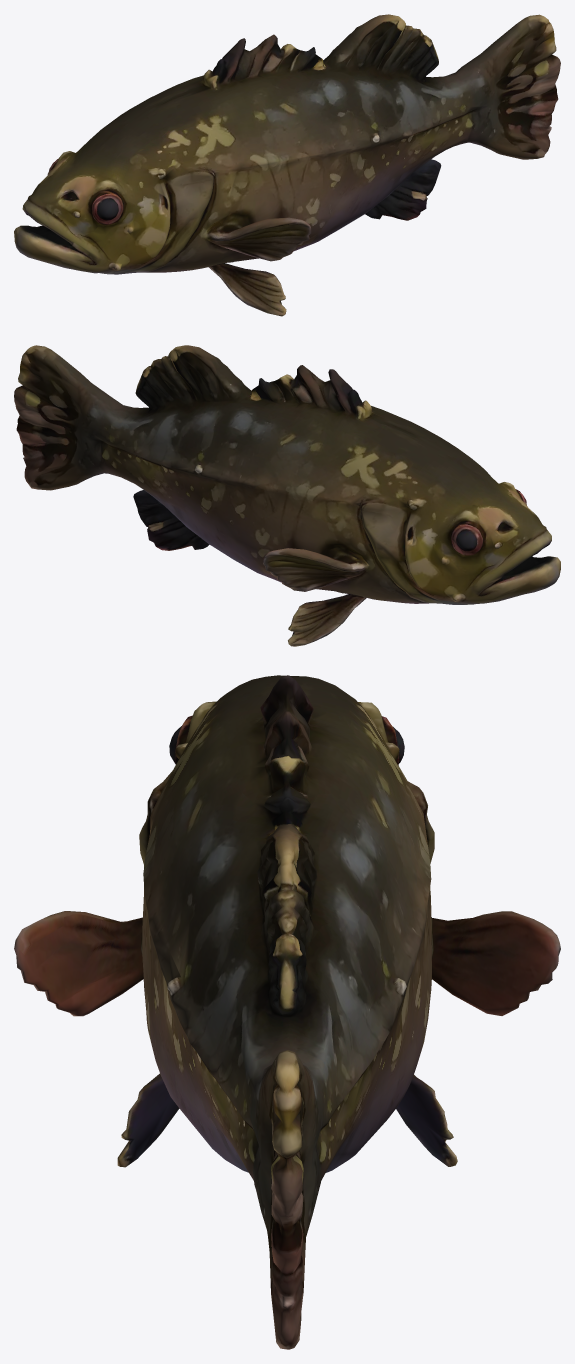
The model's file is fish-starik.glb.
The picture shows the model from 3 angles, top to bottom: view 1: azimuth 30°, elevation 25°; view 2: azimuth 150°, elevation 25°; view 3: azimuth 270°, elevation 25°; orthographic projection. The views are drawn at different scales.
Visible parts, largest first — view 1: tripo_node_d53db0b5-5b9f-47e2-a580-f28922fbe34b; view 2: tripo_node_d53db0b5-5b9f-47e2-a580-f28922fbe34b; view 3: tripo_node_d53db0b5-5b9f-47e2-a580-f28922fbe34b.
Boxes of the visible parts, x1,y1,x2,y2 form: tripo_node_d53db0b5-5b9f-47e2-a580-f28922fbe34b: (14,14,560,316); tripo_node_d53db0b5-5b9f-47e2-a580-f28922fbe34b: (14,345,560,646); tripo_node_d53db0b5-5b9f-47e2-a580-f28922fbe34b: (14,675,560,1349).
Bounding box in the file's own units: 1 × 0.4339 × 0.4358.
Materials: 1 (1 with a texture image).
